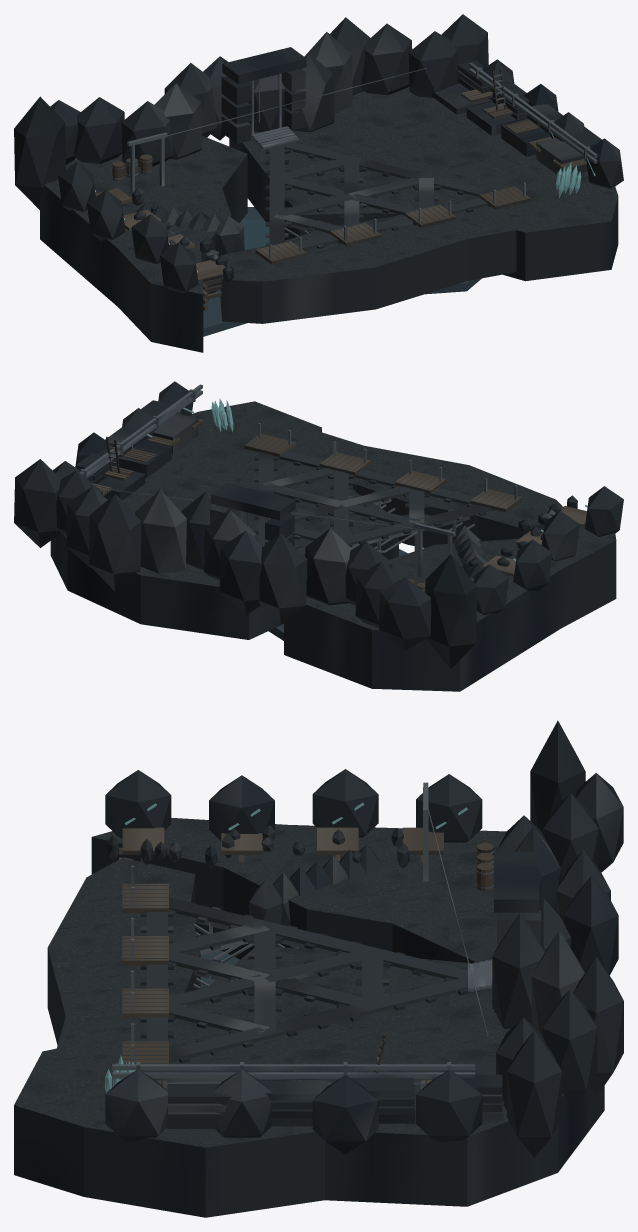
File: mine-level-3.glb
3 renders of one model, top to bottom at view 1: azimuth 30°, elevation 25°; view 2: azimuth 150°, elevation 25°; view 3: azimuth 270°, elevation 25°, orthographic. The views are drawn at different scales.
Parts seen in each view (by area): view 1: West hanging shelf, Crushed-stone track bed, Weathered east catwalk, Bridge undergirder, Fault bed, Bridge lattice, Subterranean water, Copper crystal; view 2: West hanging shelf, Crushed-stone track bed, Weathered east catwalk, Bridge undergirder, Bridge lattice, Fault bed, Copper crystal; view 3: West hanging shelf, Crushed-stone track bed, Weathered east catwalk, Bridge undergirder, Fault bed, Bridge lattice.
Part boxes in pixels (bbox=[...]): West hanging shelf: bbox=[14, 14, 623, 352]; Crushed-stone track bed: bbox=[269, 142, 493, 250]; Weathered east catwalk: bbox=[95, 68, 586, 310]; Bridge undergirder: bbox=[112, 62, 597, 258]; Fault bed: bbox=[203, 187, 527, 336]; Bridge lattice: bbox=[127, 67, 590, 236]; Subterranean water: bbox=[215, 219, 269, 292]; Copper crystal: bbox=[95, 132, 595, 273]; West hanging shelf: bbox=[14, 381, 623, 691]; Crushed-stone track bed: bbox=[258, 451, 494, 556]; Weathered east catwalk: bbox=[92, 414, 586, 592]; Bridge undergirder: bbox=[79, 384, 517, 590]; Bridge lattice: bbox=[80, 389, 474, 552]; Fault bed: bbox=[248, 434, 518, 640]; Copper crystal: bbox=[147, 398, 587, 560]; West hanging shelf: bbox=[14, 720, 623, 1217]; Crushed-stone track bed: bbox=[146, 897, 467, 1063]; Weathered east catwalk: bbox=[119, 827, 494, 1089]; Bridge undergirder: bbox=[112, 787, 494, 1088]; Fault bed: bbox=[122, 885, 239, 1063]; Bridge lattice: bbox=[136, 782, 450, 1084].
Size of the model in its own units: 30.2 by 9.1 by 23.55.
9 materials, 6 textured.
